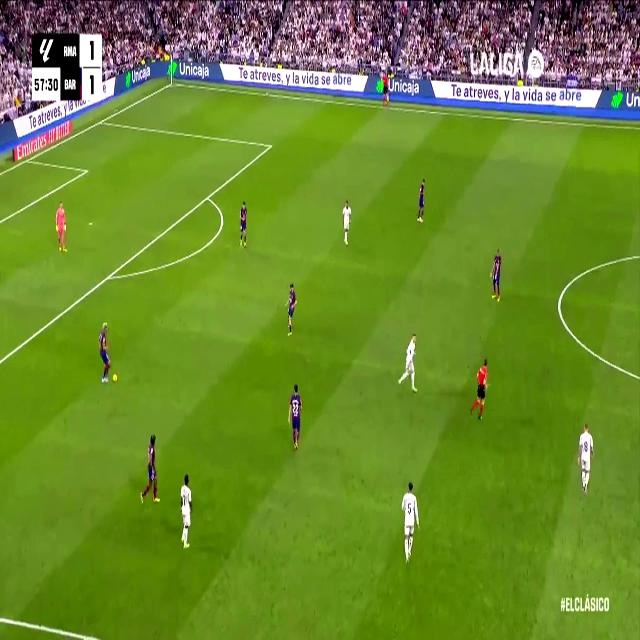bigarea_top_inner: (267, 138, 273, 153)
bigarea_top_outter: (98, 114, 106, 128)
bottom_arc_area_intersection: (105, 268, 113, 284)
corner: (168, 77, 176, 88)
smallarea_top_inner: (84, 165, 88, 176)
top_arc_area_intersection: (204, 188, 212, 204)
